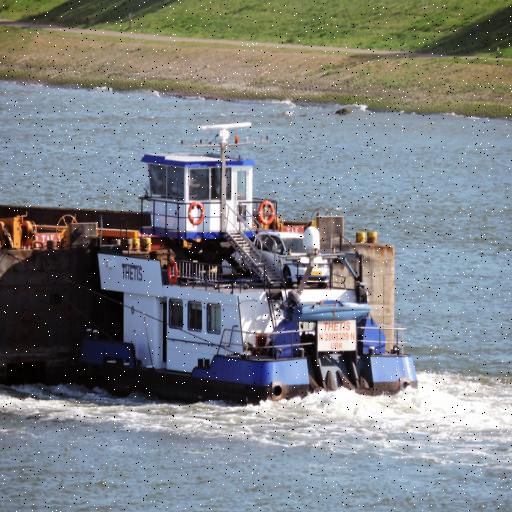tugboat: (78, 118, 422, 419)
